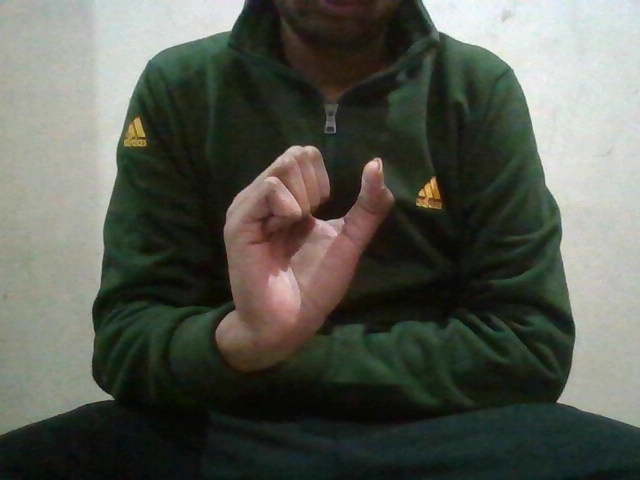S: (209, 145, 395, 355)
